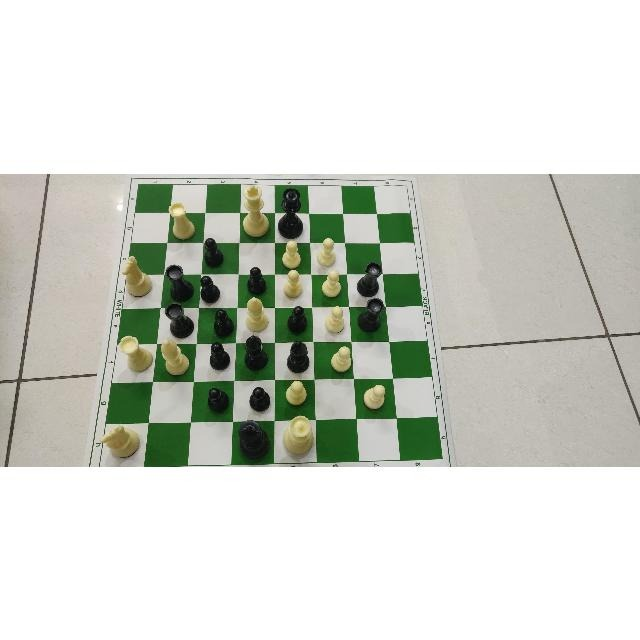black-bishop: (244, 336, 268, 369), (286, 340, 309, 372)
black-king: (237, 420, 270, 460)
black-pawn: (204, 234, 226, 270), (207, 385, 230, 419), (247, 385, 273, 415), (286, 304, 309, 336), (215, 305, 235, 338), (201, 274, 221, 302), (246, 266, 266, 294), (209, 339, 227, 370)
black-queen: (278, 188, 303, 238)
black-rook: (166, 263, 193, 300), (164, 303, 193, 337), (357, 261, 383, 297), (357, 299, 383, 333)
white-bishop: (156, 339, 189, 377), (246, 298, 268, 332)
white-king: (242, 184, 268, 236)
white-knight: (98, 419, 142, 461), (121, 254, 152, 300)
white-pawn: (361, 383, 388, 412), (327, 344, 352, 373), (320, 268, 344, 297), (283, 378, 308, 404), (324, 304, 344, 335), (283, 238, 303, 268), (318, 235, 336, 268), (282, 269, 302, 298)
white-queen: (283, 415, 312, 455)
white-rook: (120, 334, 152, 371), (169, 203, 195, 239)
